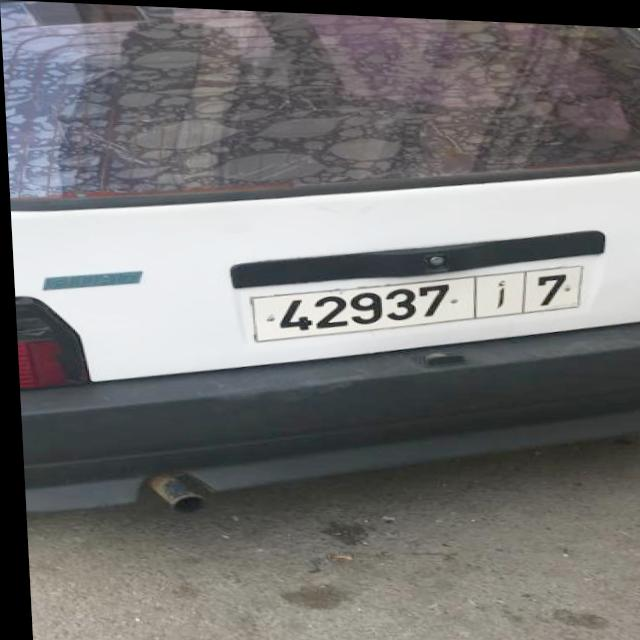License-Plate: (247, 262, 579, 338)
